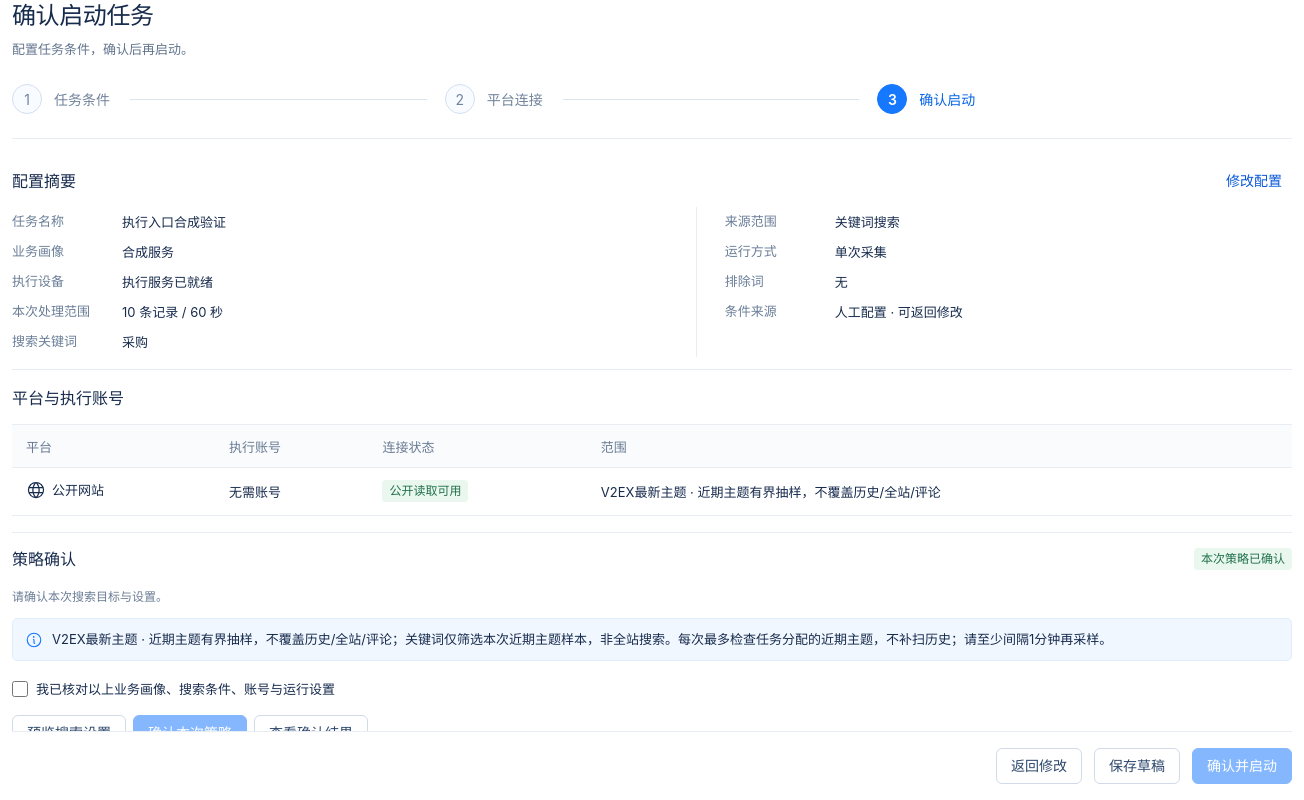
Test case: original TaskWizard signed execution entry › opens the ordinary task only after a confirmed receipt (UNKNOWN)
Click the checkbox labelled "我已核对以上业务画像、搜索条件、账号与运行设置": (20,689) [12, 681, 28, 697]
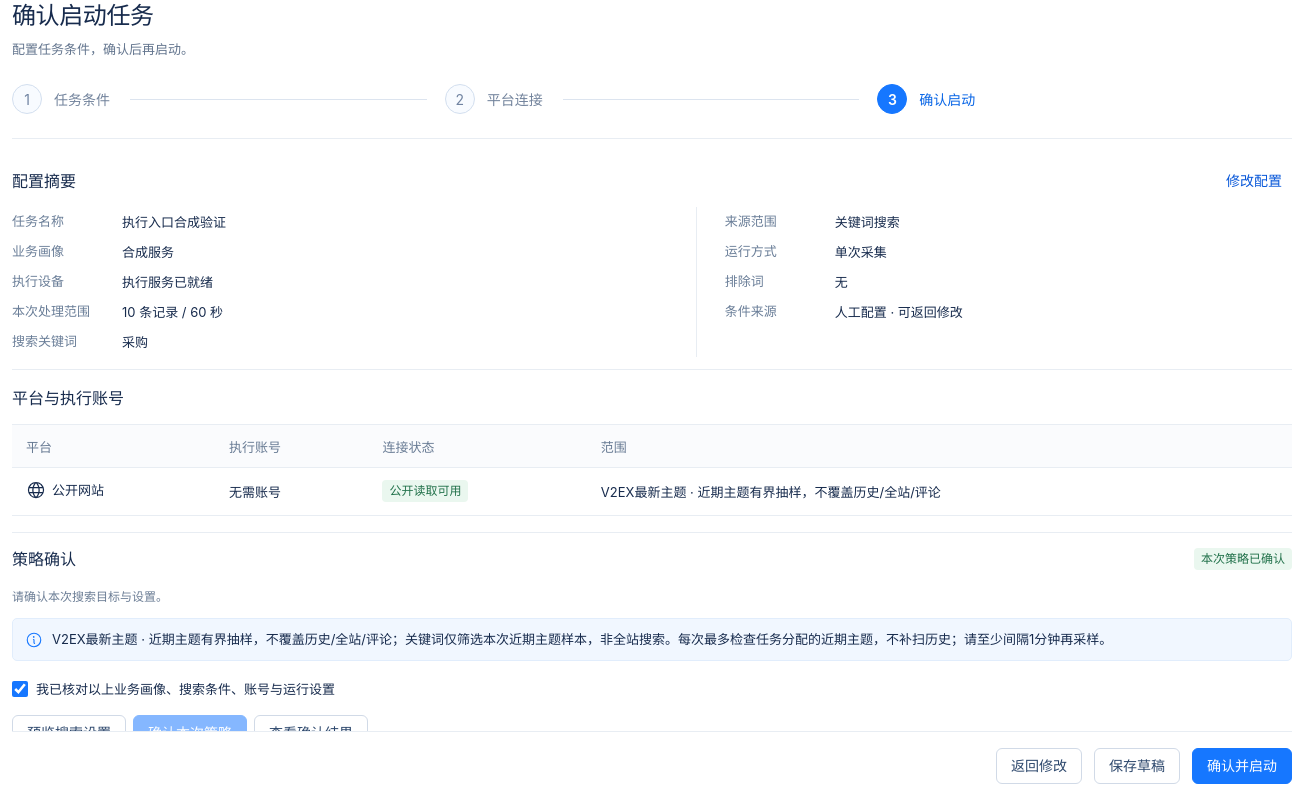
Expected: the button "确认并启动" is enabled
Click the button "确认并启动": (1242,766) [1192, 748, 1292, 784]
(page scrolled)
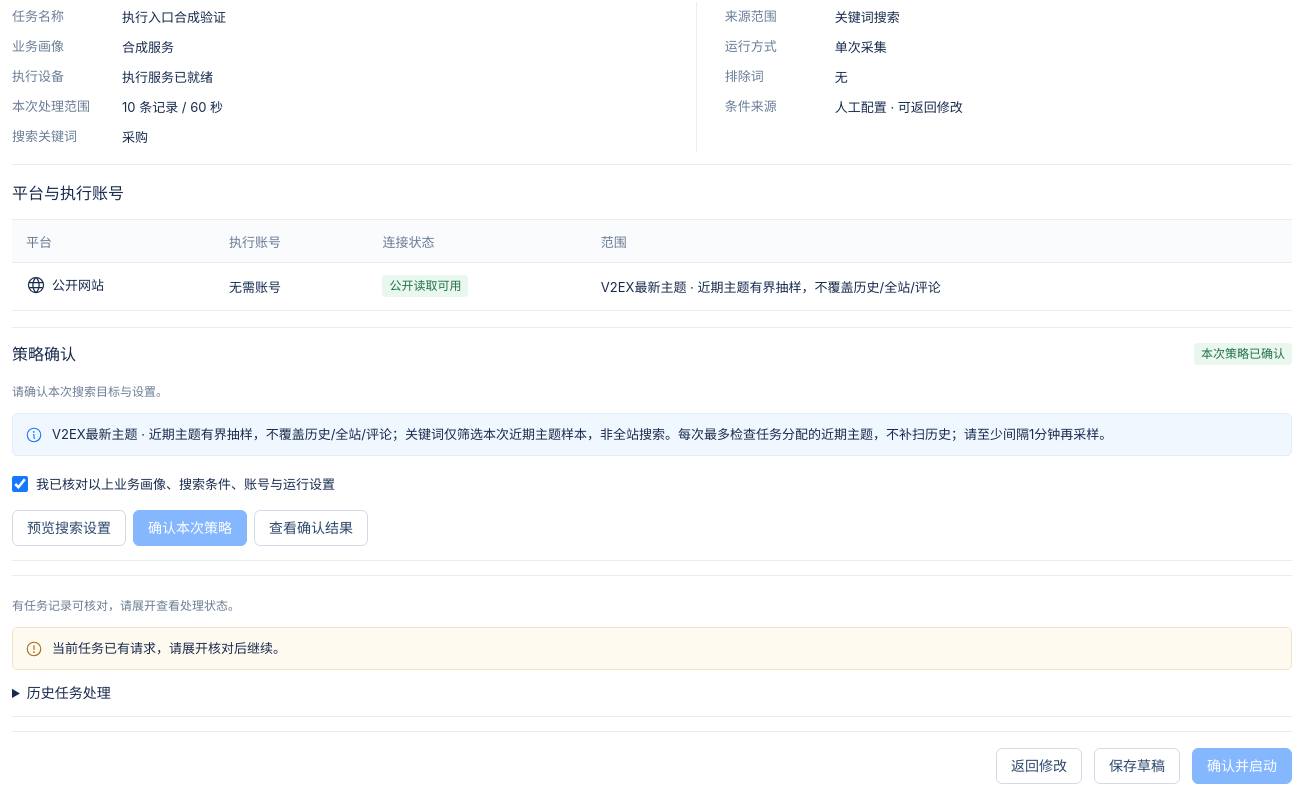
Click the heading "历史任务处理": (69,693) [27, 684, 111, 702]
(page scrolled)
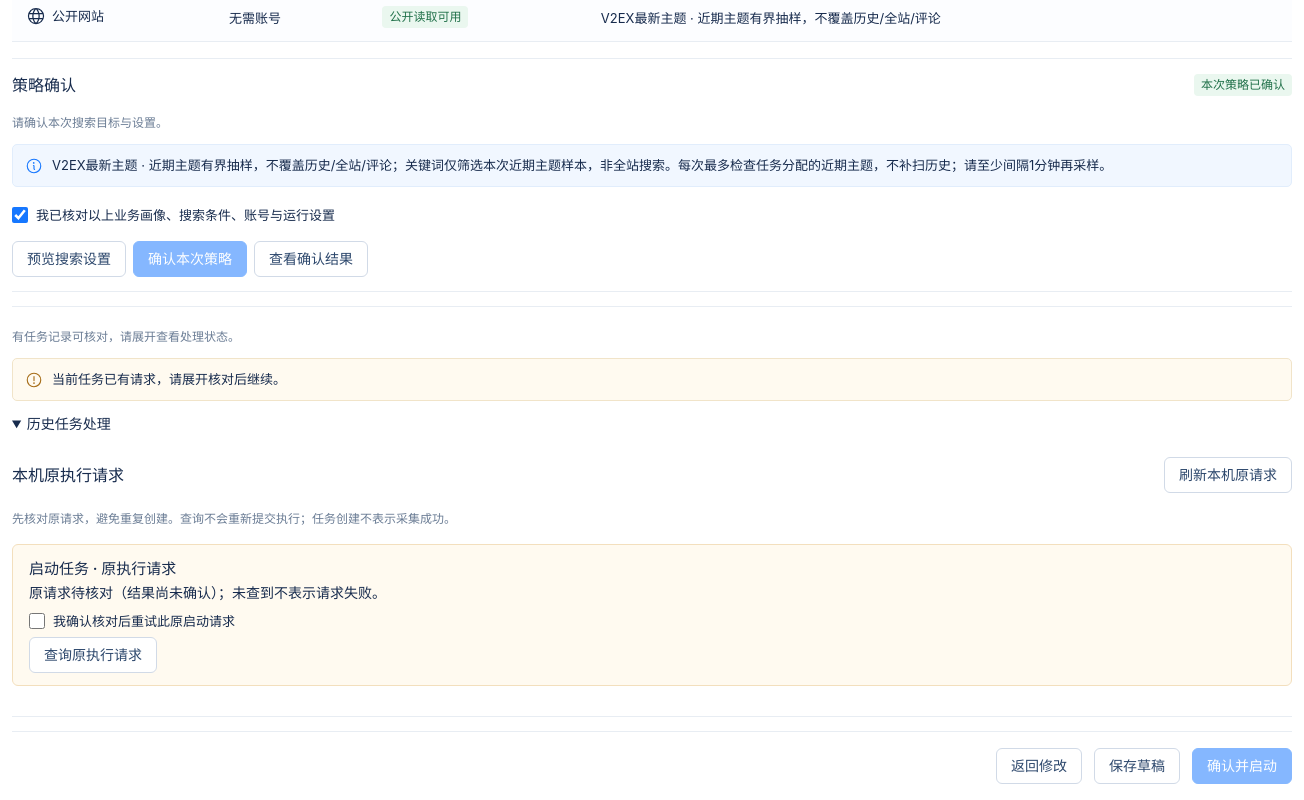
Expected: the button "查询原执行请求" is shown, [29, 637, 157, 673]
